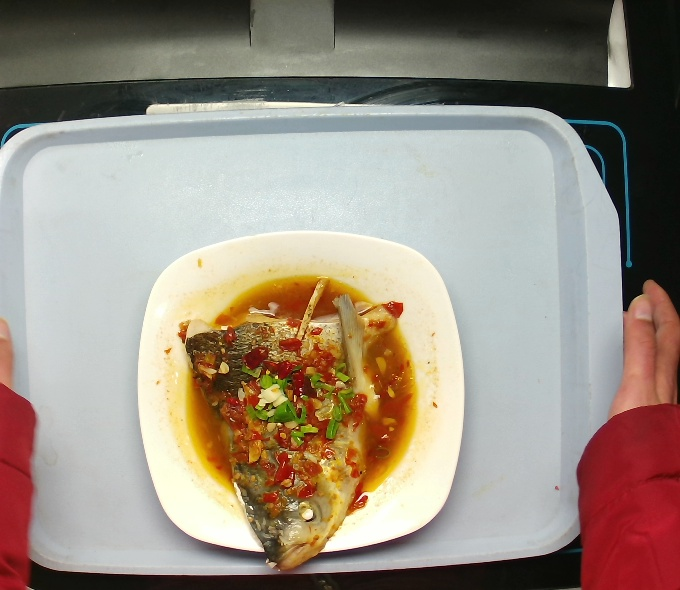wcq-DuoJiaoYuTou: (179, 272, 417, 573)
